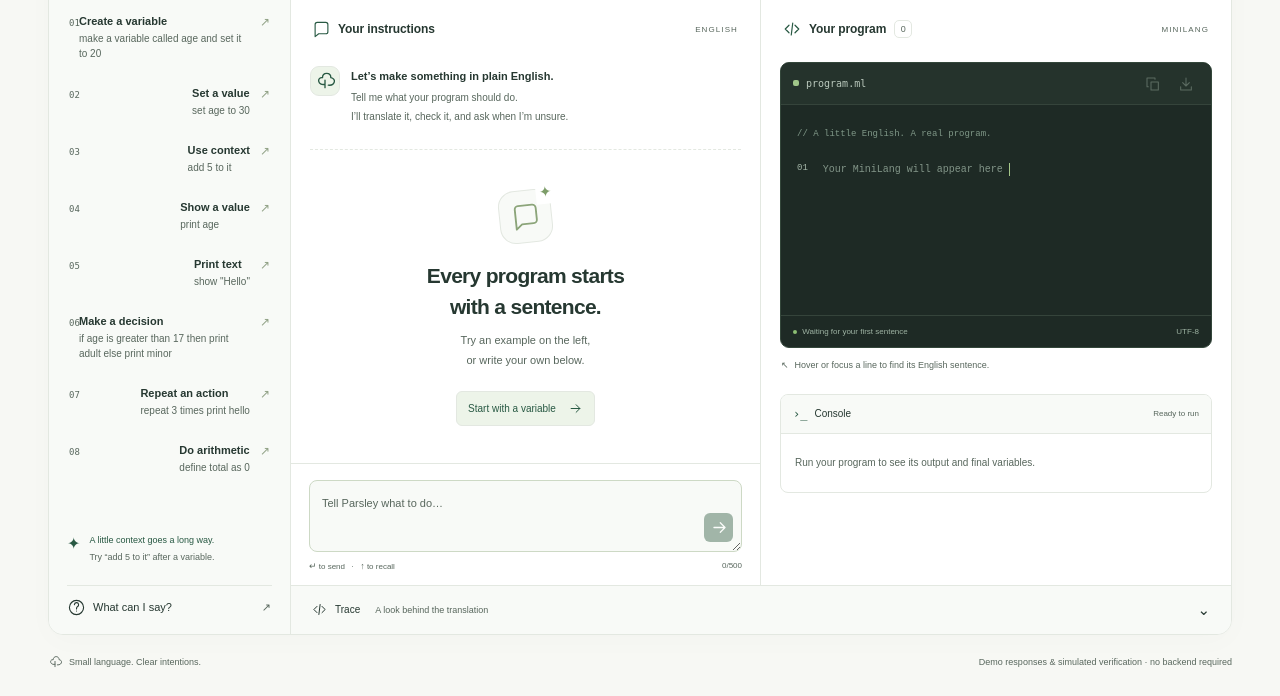
Test: shows the original sentence while its clarification is being answered
This screenshot has width=1280, height=696.
(page scrolled)
Type "set age to 10 or 20" into the text box named "English sentence" at (526, 516), box [309,480,742,552]
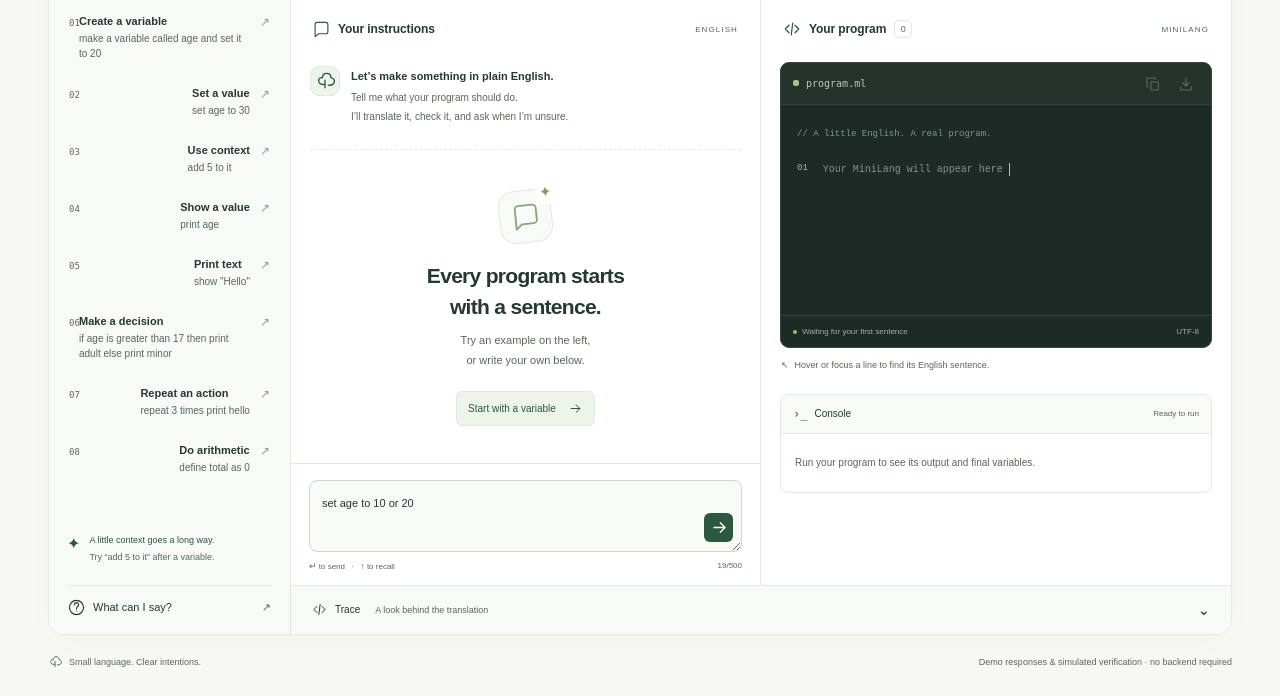
Press Enter in the text box named "English sentence", box [309,480,742,552]
(page scrolled)
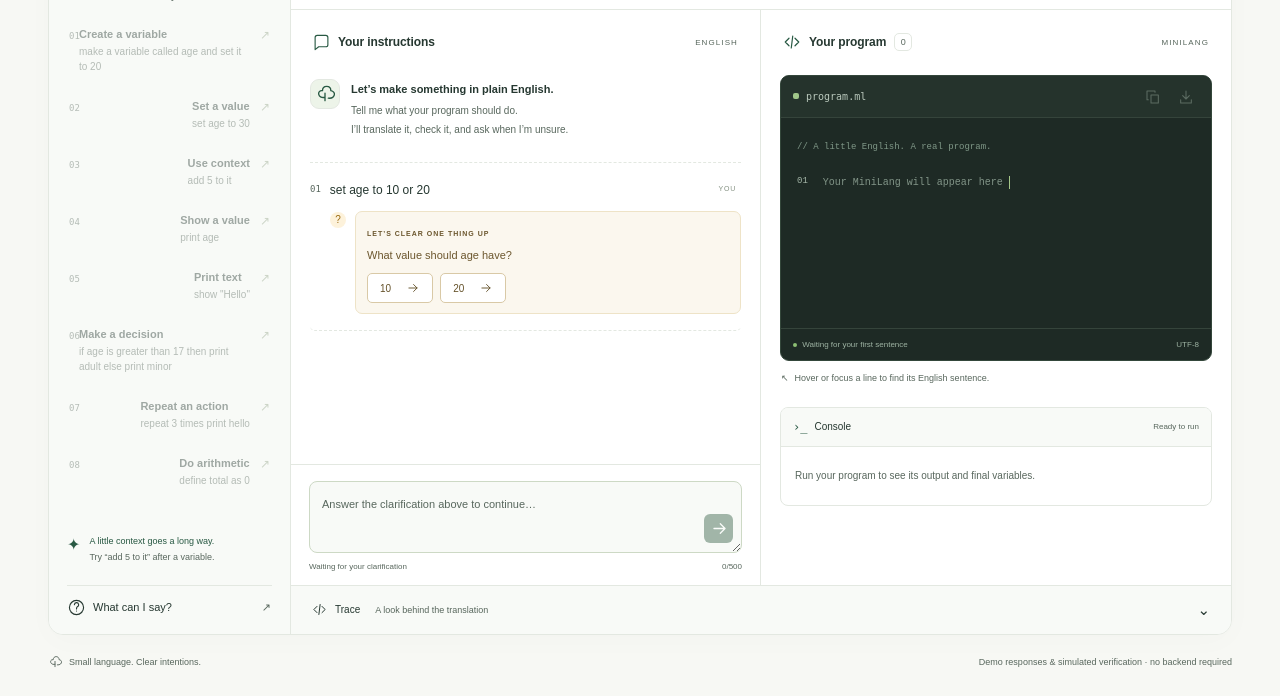
Click the button "20" at (473, 288), box [440,273,506,303]
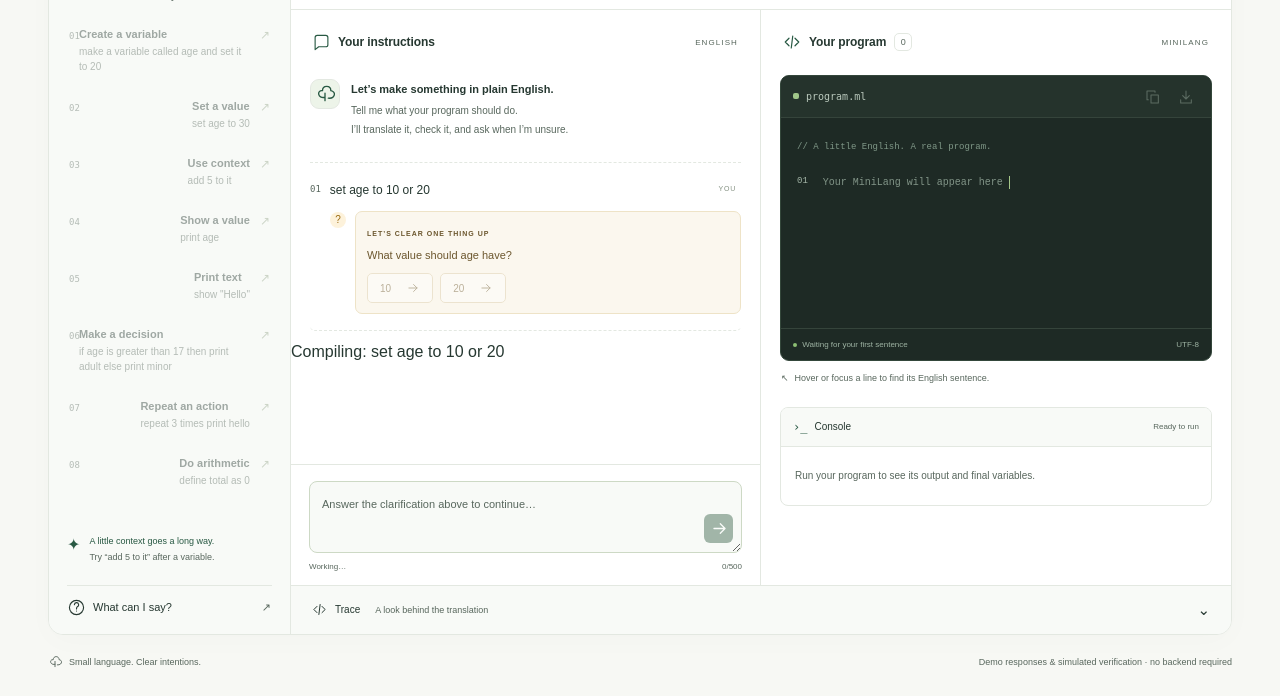
Now the text "Compiling: set age to 10 or 20" is shown, box [291,343,504,360]
